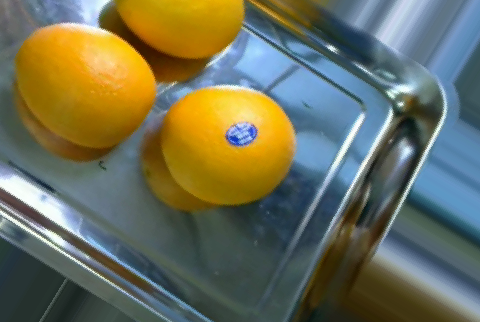Orange: (14, 22, 158, 149), (160, 85, 295, 205)
